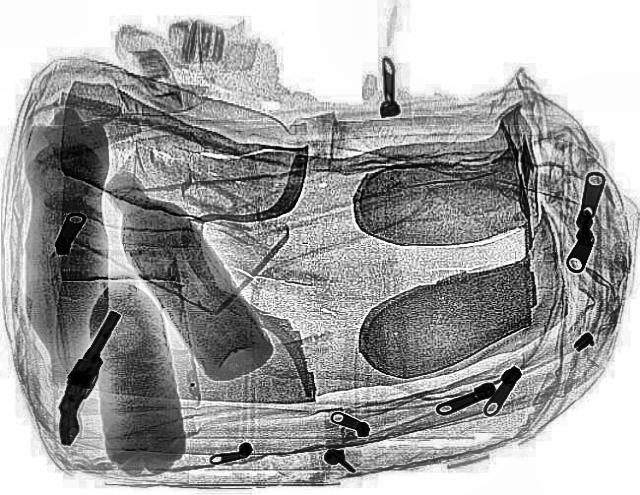Gun: (42, 303, 126, 445)
